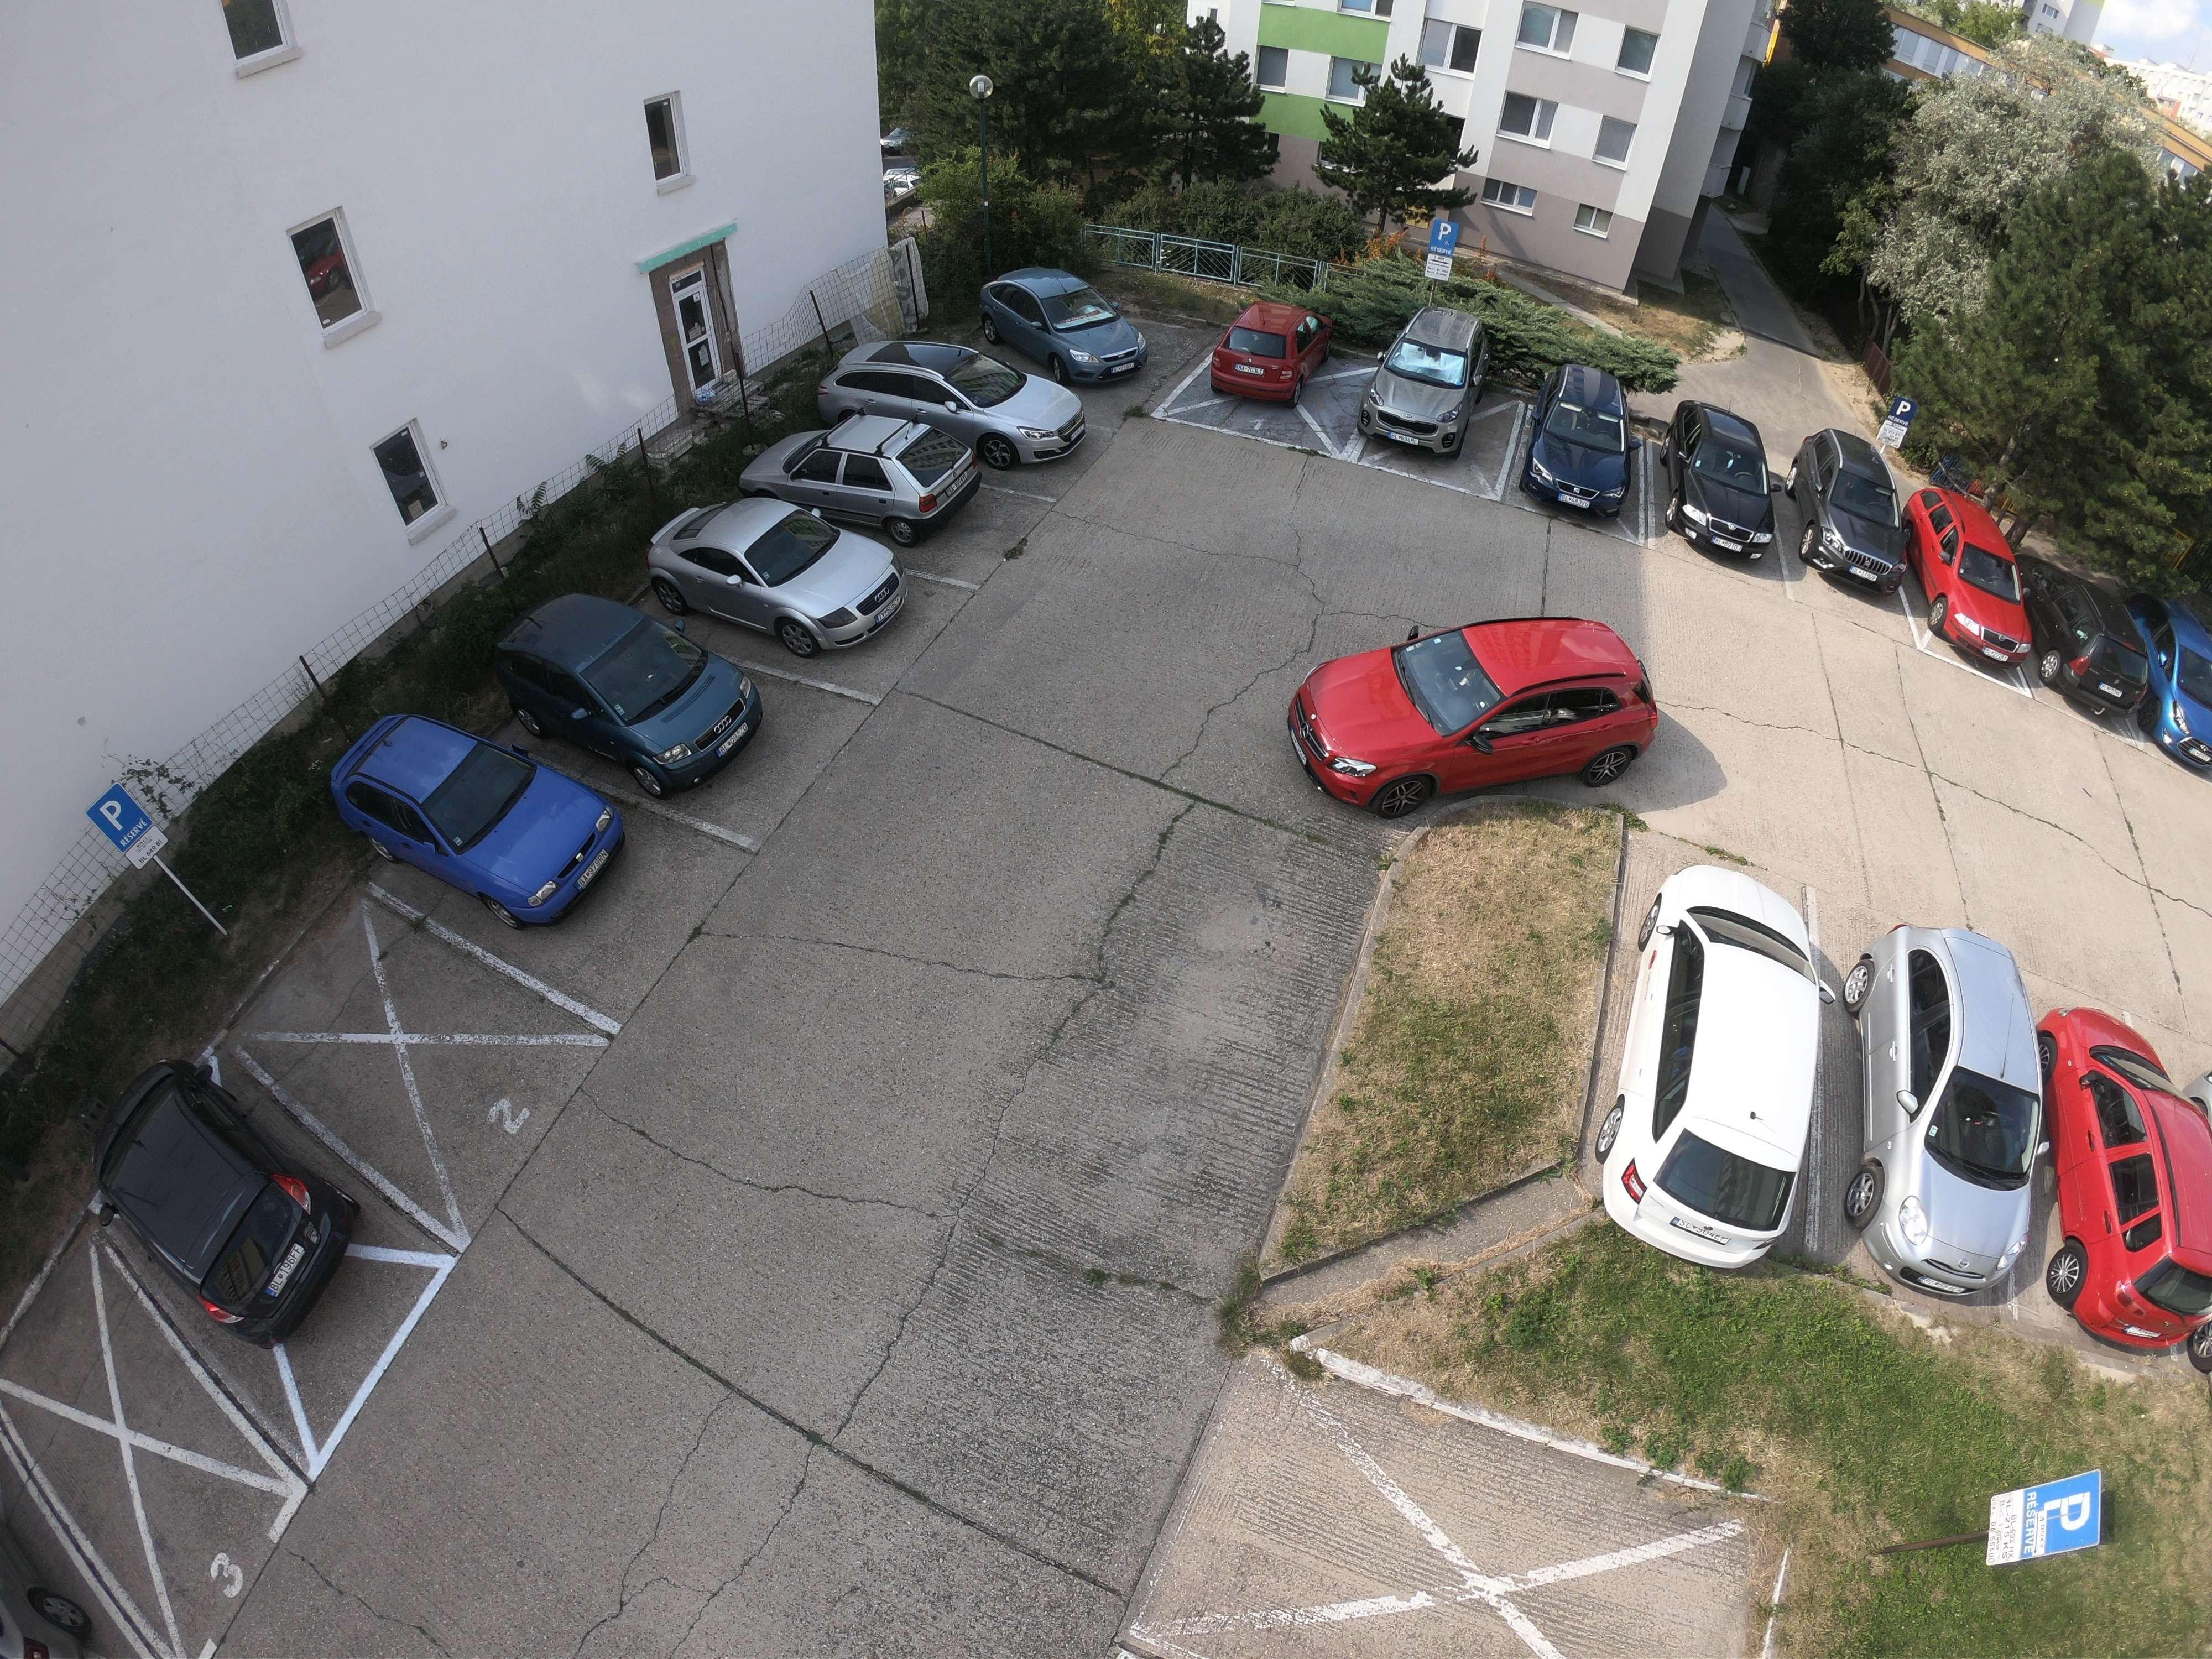empty: (1609, 861, 1851, 1263), (89, 1037, 390, 1354), (1857, 922, 2060, 1309), (1305, 613, 1660, 803), (320, 716, 620, 922), (2031, 1004, 2200, 1352), (489, 598, 763, 795), (653, 498, 911, 659), (843, 343, 1083, 465), (1507, 361, 1662, 521), (756, 423, 979, 532), (1348, 310, 1505, 464), (1663, 403, 1799, 565), (1911, 507, 2043, 666), (1794, 434, 1923, 589), (988, 270, 1157, 385), (2052, 589, 2163, 730), (1207, 305, 1338, 406), (2134, 603, 2212, 765)
occupied: (1299, 1457, 1604, 1659), (277, 948, 507, 1127), (38, 1354, 226, 1528)
